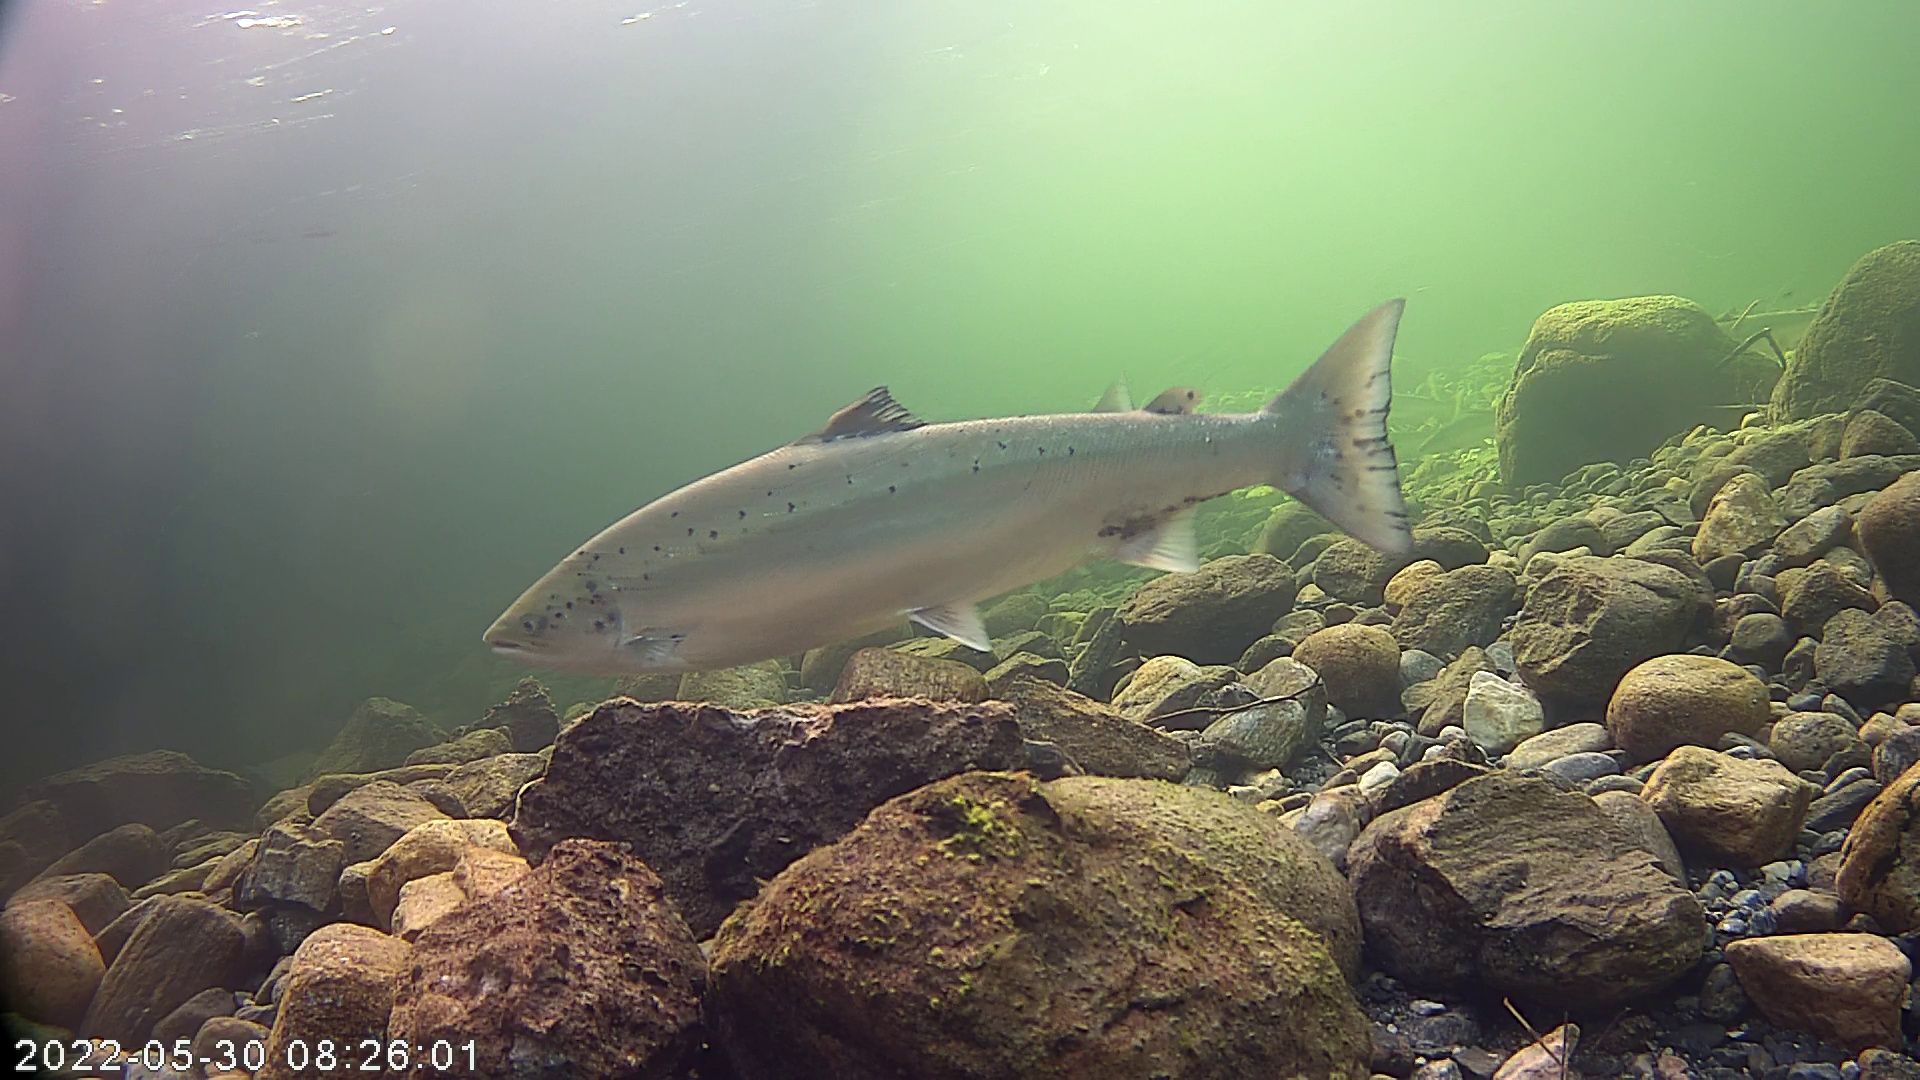salmon: (475, 293, 1418, 680)
